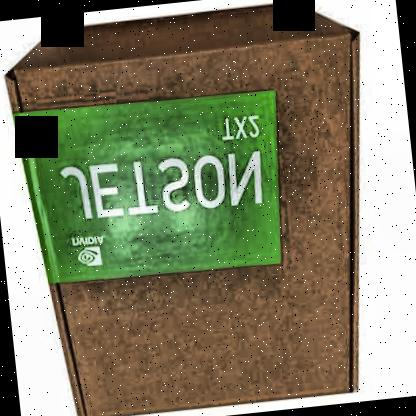no defect parcel: (0, 0, 404, 416)
